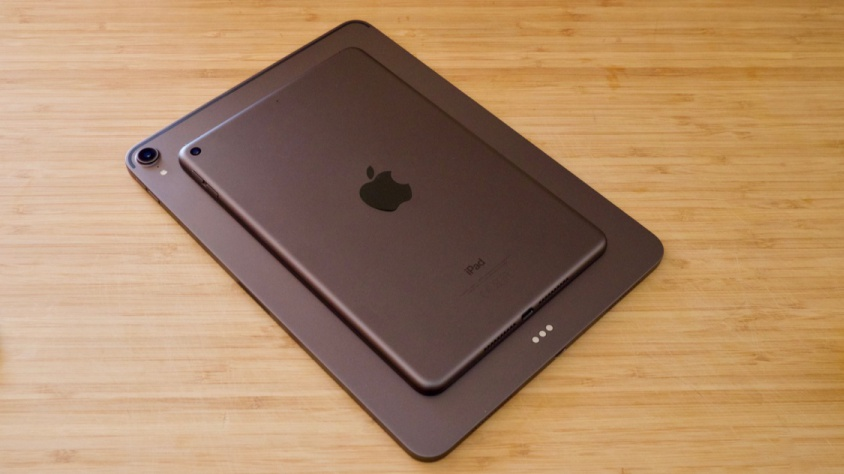apple: (340, 159, 440, 226)
